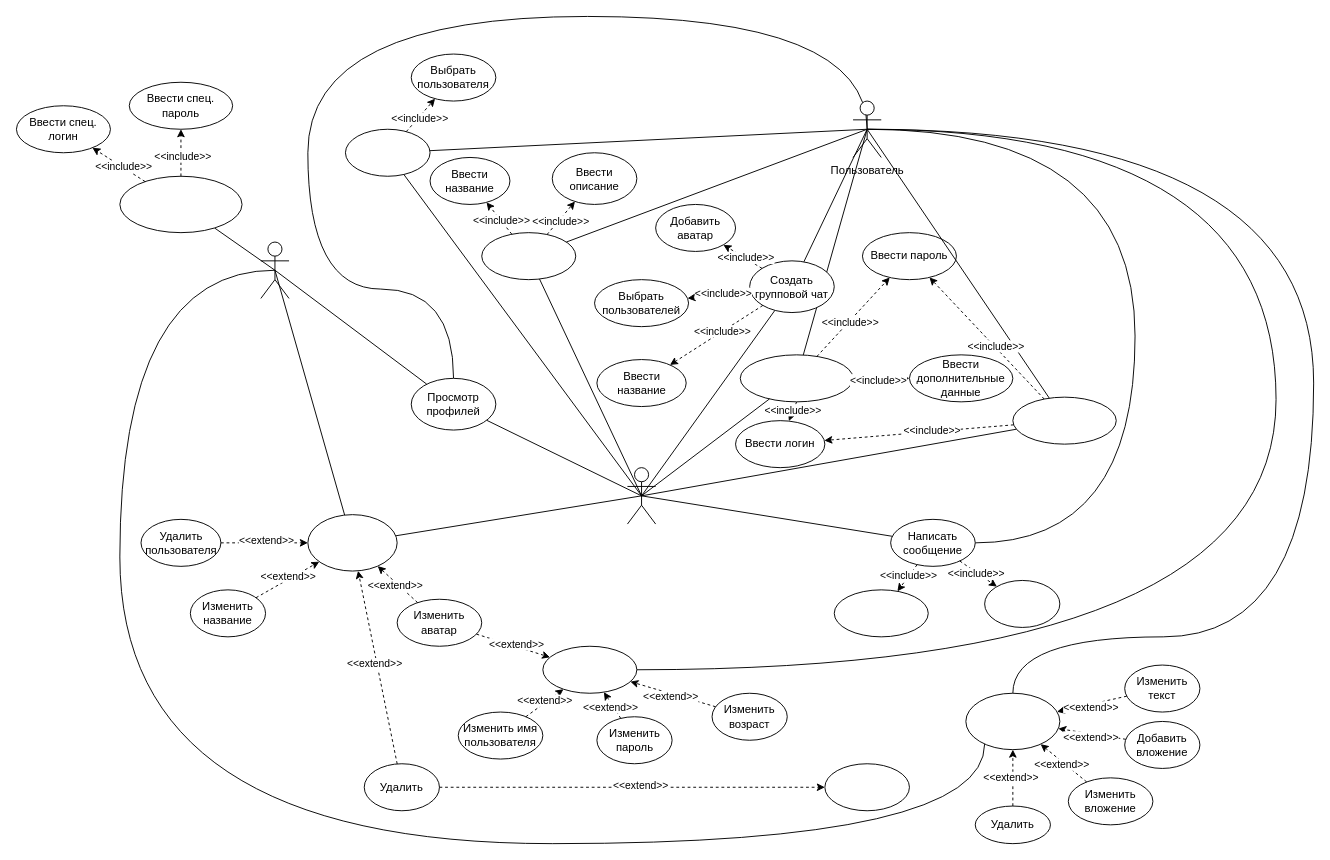
The diagram is 1330 pixels wide and 860 high, and some of its shapes have lost their labels. The shapes that lost their labels are listed below. From the top down, each one's centre as x and y in pixels, then its label:
(x=387, y=152): Создать чат
(x=180, y=204): Авторизоваться как администратор
(x=274, y=269): Администратор
(x=528, y=256): Создать дискуссию
(x=796, y=378): Зарегистрироваться
(x=1064, y=420): Авторизоваться как пользователь
(x=641, y=495): Создатель
(x=352, y=542): Редактировать группу чатов
(x=880, y=613): Написать текст
(x=1022, y=603): Добавить вложения
(x=589, y=669): Редактирование профиля
(x=1012, y=721): Редактировать сообщение
(x=866, y=787): Редактировать чат
